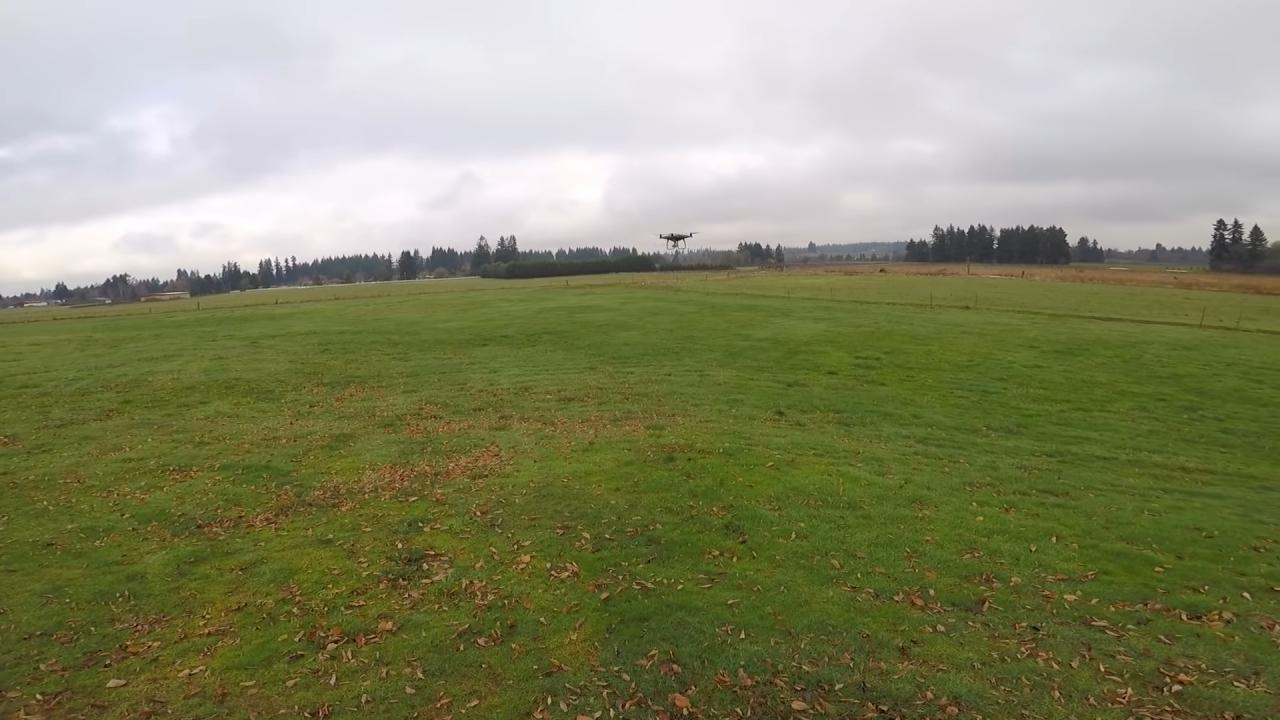Drone: (652, 225, 699, 255)
